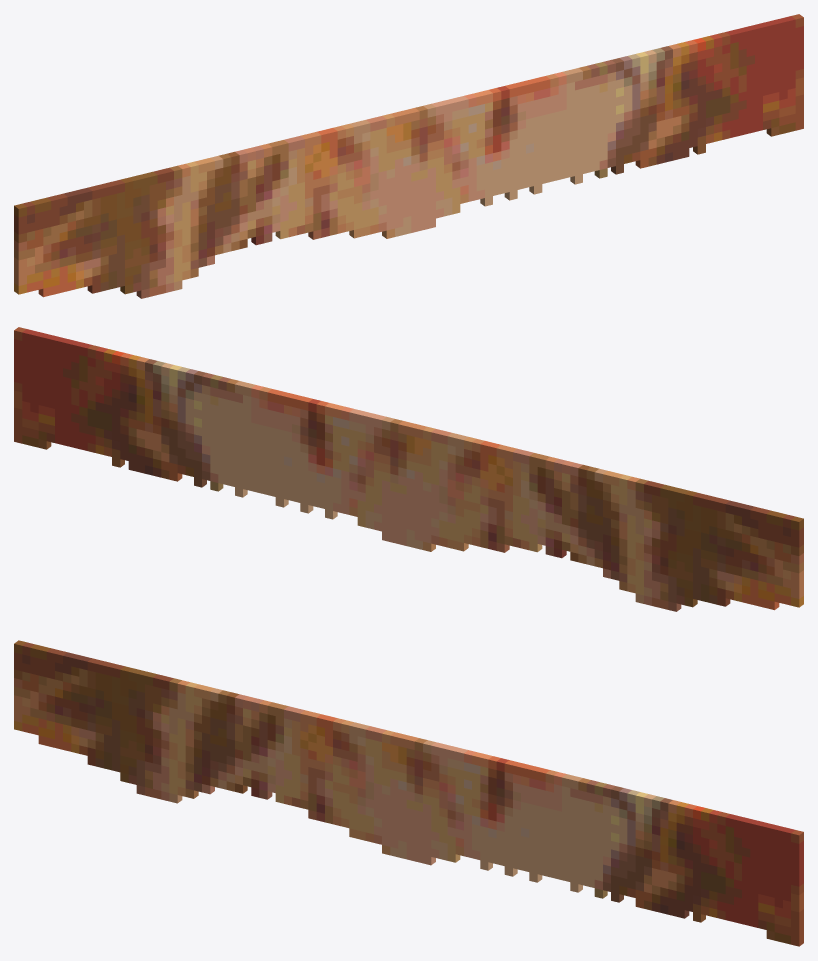
Rendered from beda.vox-10-beda1.obj.
3 views of the same model, one above another, from view 1: azimuth 30°, elevation 25°; view 2: azimuth 150°, elevation 25°; view 3: azimuth 330°, elevation 25° (orthographic).
Visible parts, largest first — view 1: beda1; view 2: beda1; view 3: beda1.
Part boxes in pixels (bbox=[...]): beda1: bbox=[14, 14, 803, 298]; beda1: bbox=[14, 327, 803, 611]; beda1: bbox=[14, 640, 803, 946].
Bounding box in the file's own units: 9.6 × 1.4 × 0.1.
Materials: 1 (1 with a texture image).
